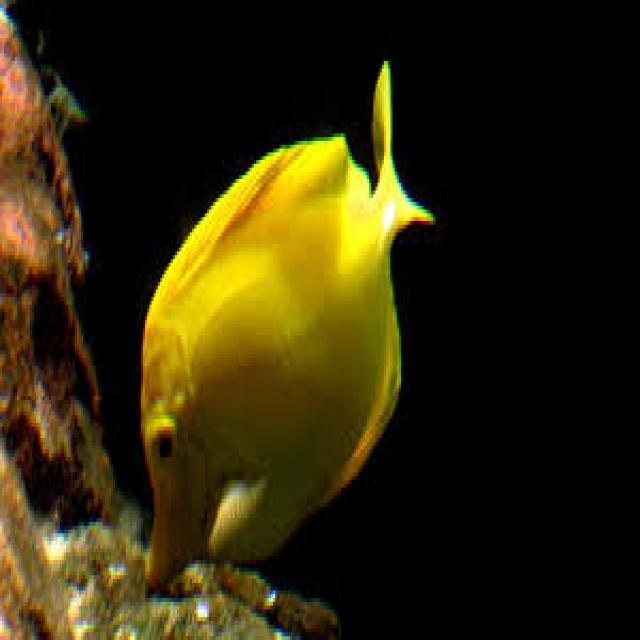YellowTang: (126, 52, 436, 594)
